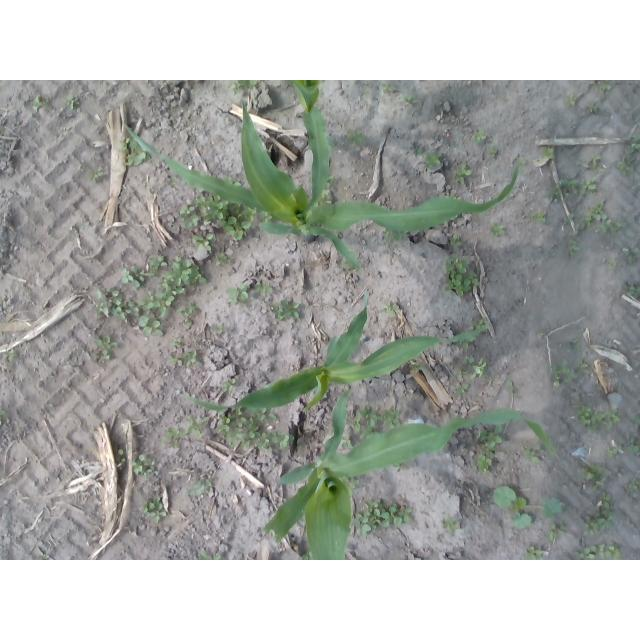Maize: (123, 100, 521, 270), (264, 388, 557, 560), (183, 290, 486, 413), (286, 80, 331, 218)
Weeds: (93, 253, 207, 338), (568, 199, 629, 259), (216, 411, 297, 450), (492, 486, 565, 528), (180, 195, 228, 251), (352, 499, 413, 538), (443, 252, 481, 296), (162, 415, 211, 449), (455, 356, 488, 401), (583, 491, 613, 538), (224, 208, 257, 243), (577, 405, 622, 430), (116, 137, 148, 168), (348, 407, 380, 438), (572, 544, 622, 561), (561, 177, 599, 199), (581, 460, 607, 492), (476, 426, 508, 450), (139, 496, 168, 522), (552, 359, 577, 389), (268, 297, 300, 320), (92, 335, 116, 363), (130, 454, 156, 479), (577, 154, 606, 174), (187, 476, 213, 498), (227, 282, 250, 306), (167, 350, 197, 368), (615, 156, 637, 179), (477, 451, 498, 474), (548, 521, 569, 543), (85, 164, 106, 185), (31, 94, 53, 114), (424, 150, 443, 173), (231, 81, 259, 96), (561, 337, 584, 355), (379, 302, 402, 319), (256, 279, 276, 298), (524, 442, 542, 463), (383, 410, 402, 429), (623, 474, 640, 495), (442, 517, 462, 534), (382, 230, 408, 243), (456, 164, 472, 185), (624, 134, 640, 155), (601, 443, 623, 458), (622, 283, 640, 301), (525, 546, 548, 560), (626, 433, 640, 455), (346, 129, 364, 146), (544, 185, 561, 203), (400, 94, 420, 109), (625, 249, 640, 268), (66, 96, 82, 113), (588, 100, 603, 117), (531, 212, 550, 225), (217, 252, 232, 268), (471, 319, 489, 332), (392, 463, 413, 474), (199, 550, 222, 560), (473, 128, 487, 144), (491, 222, 505, 238), (540, 148, 557, 161), (222, 380, 238, 393), (579, 361, 590, 379), (212, 322, 228, 334), (116, 450, 127, 467), (414, 146, 427, 160), (338, 260, 353, 272), (382, 84, 397, 96), (341, 437, 353, 452), (322, 188, 333, 204), (602, 80, 615, 93), (408, 362, 421, 375), (565, 93, 576, 108), (609, 257, 620, 271), (346, 478, 360, 489), (448, 235, 460, 247), (166, 177, 179, 188), (563, 212, 574, 225), (487, 147, 497, 161), (505, 380, 515, 393), (171, 337, 181, 347), (461, 340, 472, 349), (520, 158, 529, 166), (6, 350, 15, 358), (537, 333, 547, 340), (0, 410, 6, 419), (590, 80, 599, 85)
